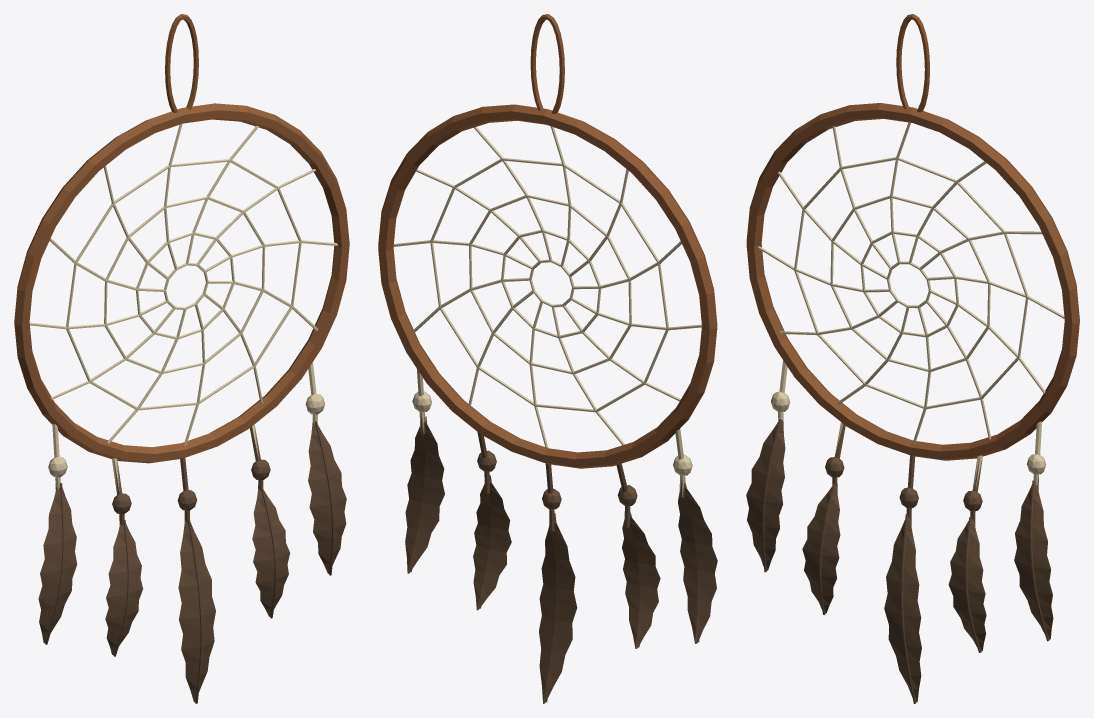
The model's file is NEW_RECOVERY_097_LOD2.glb.
The picture shows the model from 3 angles, left to right: view 1: azimuth 30°, elevation 25°; view 2: azimuth 150°, elevation 25°; view 3: azimuth 330°, elevation 25°; orthographic projection.
Parts seen in each view (by area): view 1: Dreamcatcher; view 2: Dreamcatcher; view 3: Dreamcatcher.
Part boxes in pixels (box(x1,y1,x2,y2)): Dreamcatcher: box(14, 14, 349, 703); Dreamcatcher: box(378, 14, 717, 703); Dreamcatcher: box(746, 14, 1079, 703).
Bounding box in the file's own units: 1.03 × 2.01 × 0.1269.
